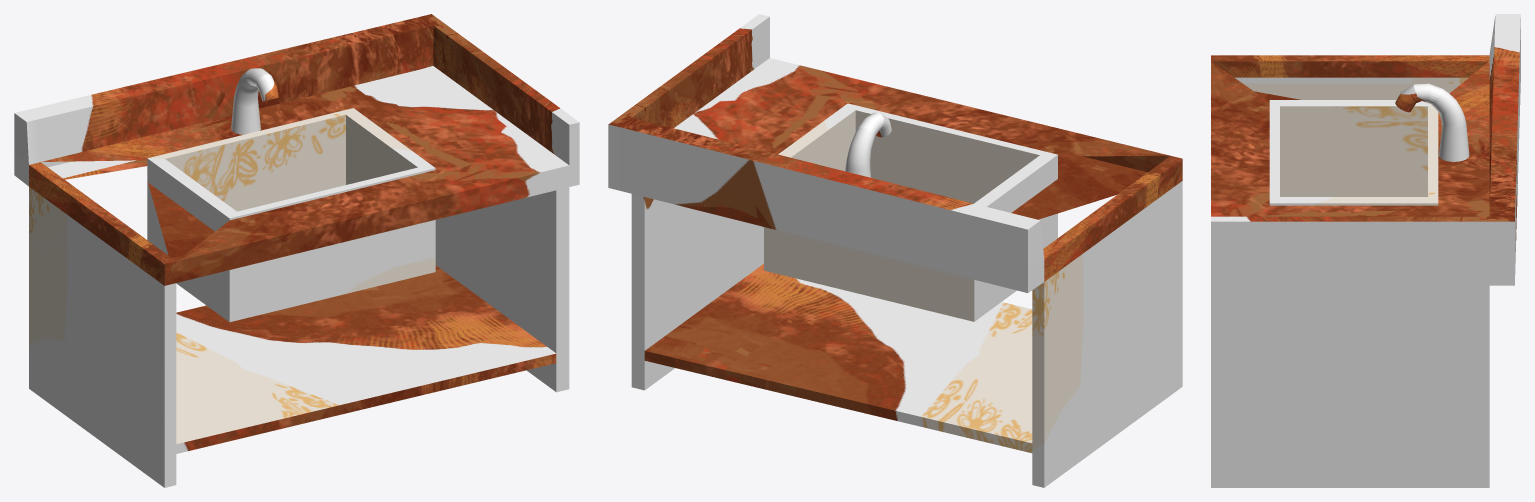
Rendered from KitchenSink.obj.
3 views of the same model, side by side, from view 1: azimuth 30°, elevation 25°; view 2: azimuth 150°, elevation 25°; view 3: azimuth 270°, elevation 25° (orthographic). The views are drawn at different scales.
Parts seen in each view (by area): view 1: KitchenSink; view 2: KitchenSink; view 3: KitchenSink.
Boxes of the visible parts, x1,y1,x2,y2 form: KitchenSink: (14, 14, 579, 487); KitchenSink: (608, 14, 1182, 487); KitchenSink: (1211, 14, 1520, 487).
Bounding box in the file's own units: 0.4555 × 0.3071 × 0.2868.
